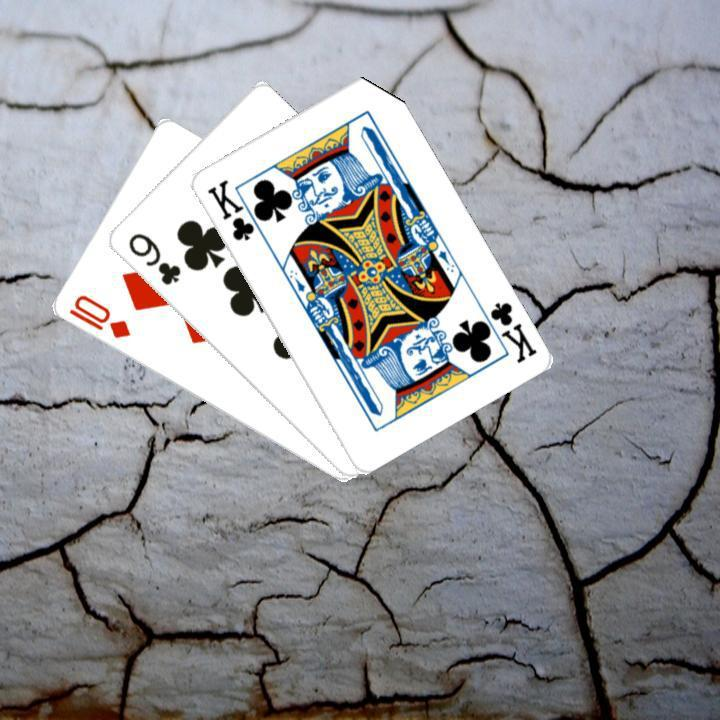10: (64, 290, 132, 341)
9: (123, 228, 183, 288)
K: (202, 175, 268, 243), (472, 297, 538, 365)
